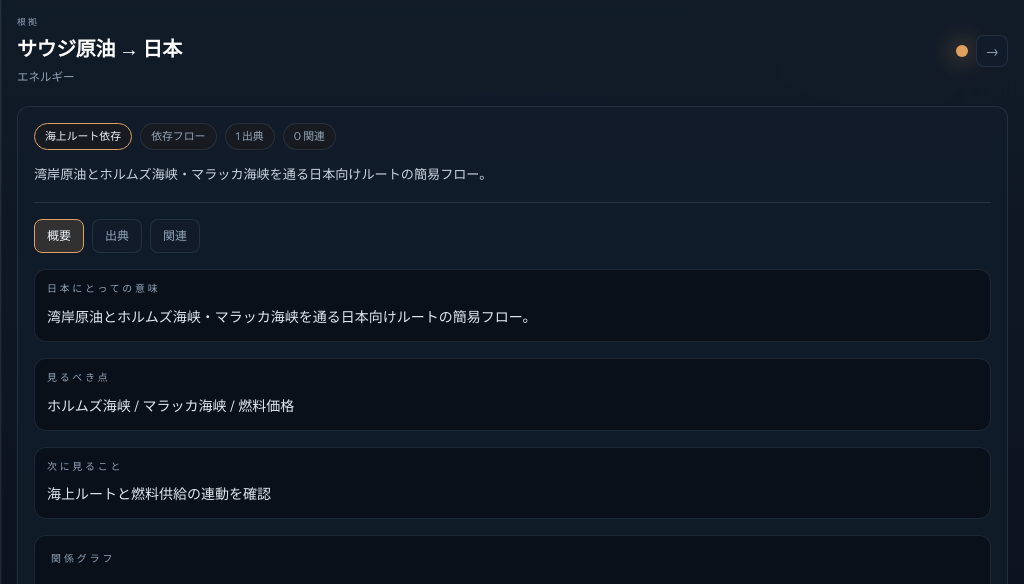
evidence panel structure › resolves the official source chip for legacy source without authority fields
What coordinates should you click on to do the following:
click the button "出典"
I would click on:
 (117, 236)
Its box is left=92, top=219, right=142, bottom=253.
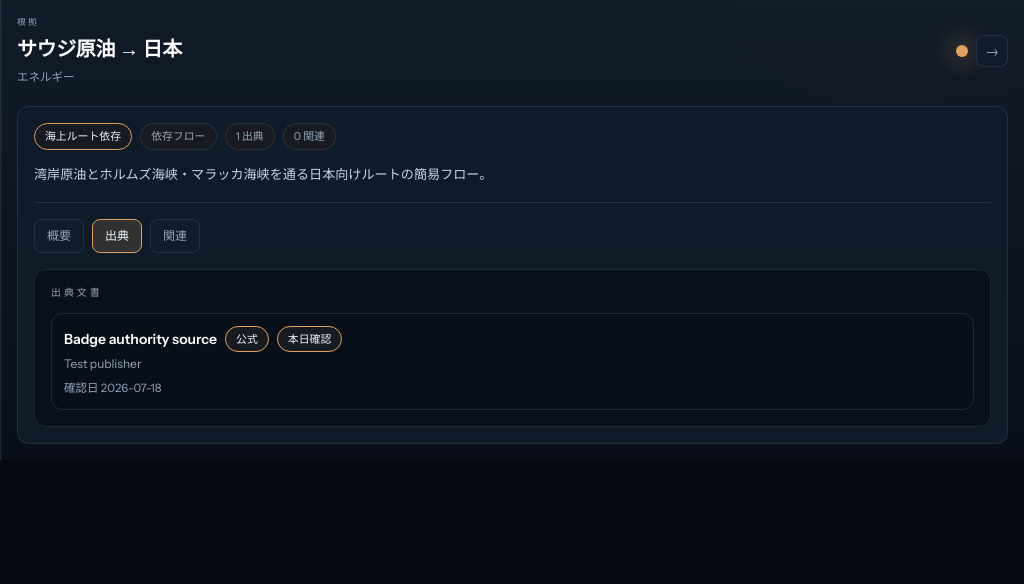
Expected: the text "公式" is shown, left=225, top=326, right=269, bottom=352
